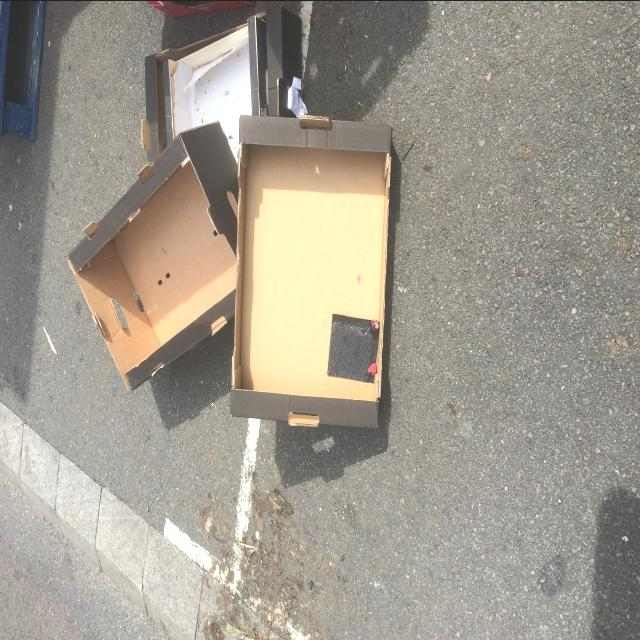Corrugated carton: (230, 113, 391, 428), (67, 118, 239, 390), (141, 4, 302, 163)
Food waste: (370, 319, 379, 332), (368, 362, 377, 375)
Unlabeled litter: (44, 325, 57, 353)
